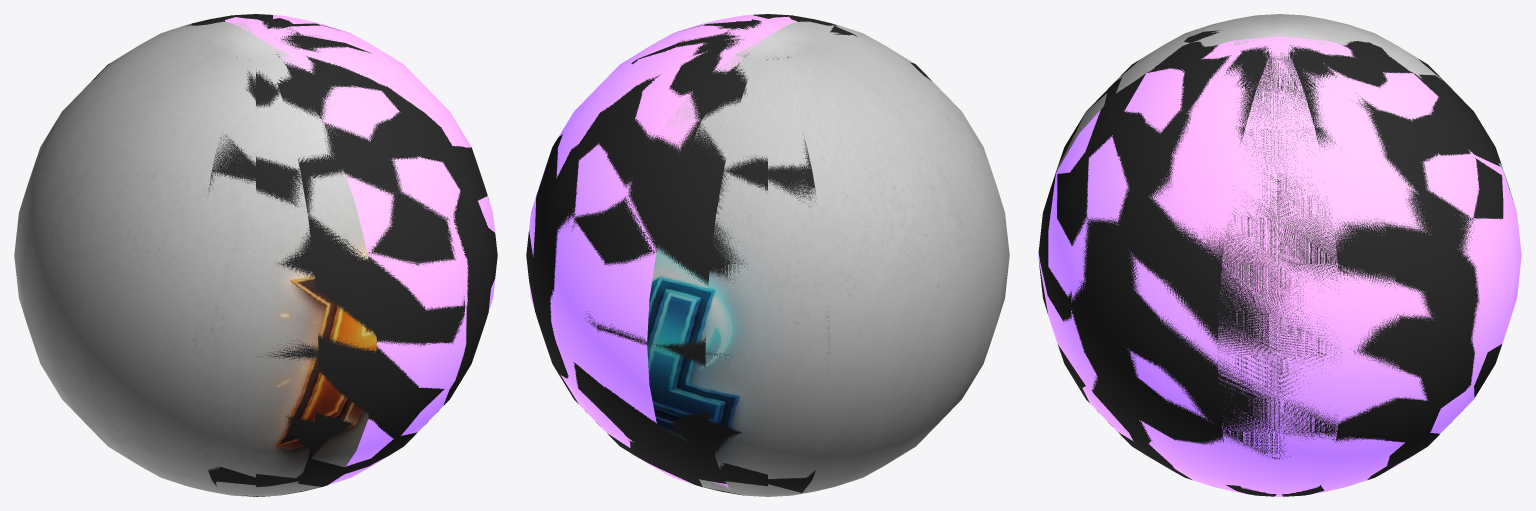
The model's file is fuzeball_ball.glb.
3 renders of one model, left to right at view 1: azimuth 30°, elevation 25°; view 2: azimuth 150°, elevation 25°; view 3: azimuth 270°, elevation 25°, orthographic.
Parts seen in each view (by area): view 1: classic.001, cannon.001, split.001; view 2: classic.001, cannon.001, split.001; view 3: split.001, cannon.001, classic.001.
Part boxes in pixels (x1,y1,x2,y2): classic.001: (14,21,376,496); cannon.001: (92,14,497,496); split.001: (224,15,495,484); classic.001: (647,21,1009,496); cannon.001: (526,14,931,495); split.001: (529,15,797,492); split.001: (1038,35,1521,496); cannon.001: (1038,30,1503,496); classic.001: (1050,14,1514,204).
Bounding box in the file's own units: 3.6 × 3.6 × 3.6.
Materials: 5 (2 with a texture image).
